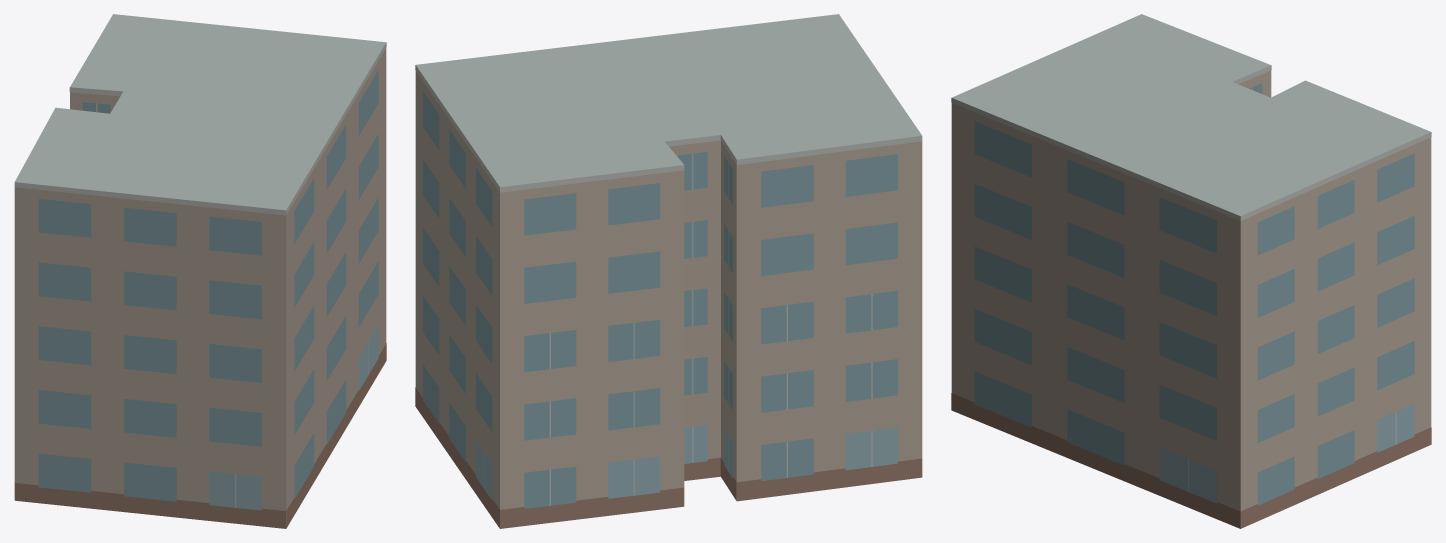
Rendered from survey-upis-32498196.glb.
3 views of the same model, side by side, from view 1: azimuth 30°, elevation 25°; view 2: azimuth 150°, elevation 25°; view 3: azimuth 270°, elevation 25° (orthographic). The views are drawn at different scales.
Visible parts, largest first — view 1: survey-upis-32498196.tmp; view 2: survey-upis-32498196.tmp; view 3: survey-upis-32498196.tmp.
Boxes of the visible parts, <box> form: survey-upis-32498196.tmp: <box>14,14,386,528</box>; survey-upis-32498196.tmp: <box>415,14,922,528</box>; survey-upis-32498196.tmp: <box>951,14,1431,528</box>.
Bounding box in the file's own units: 21.16 × 15.25 × 21.22.
